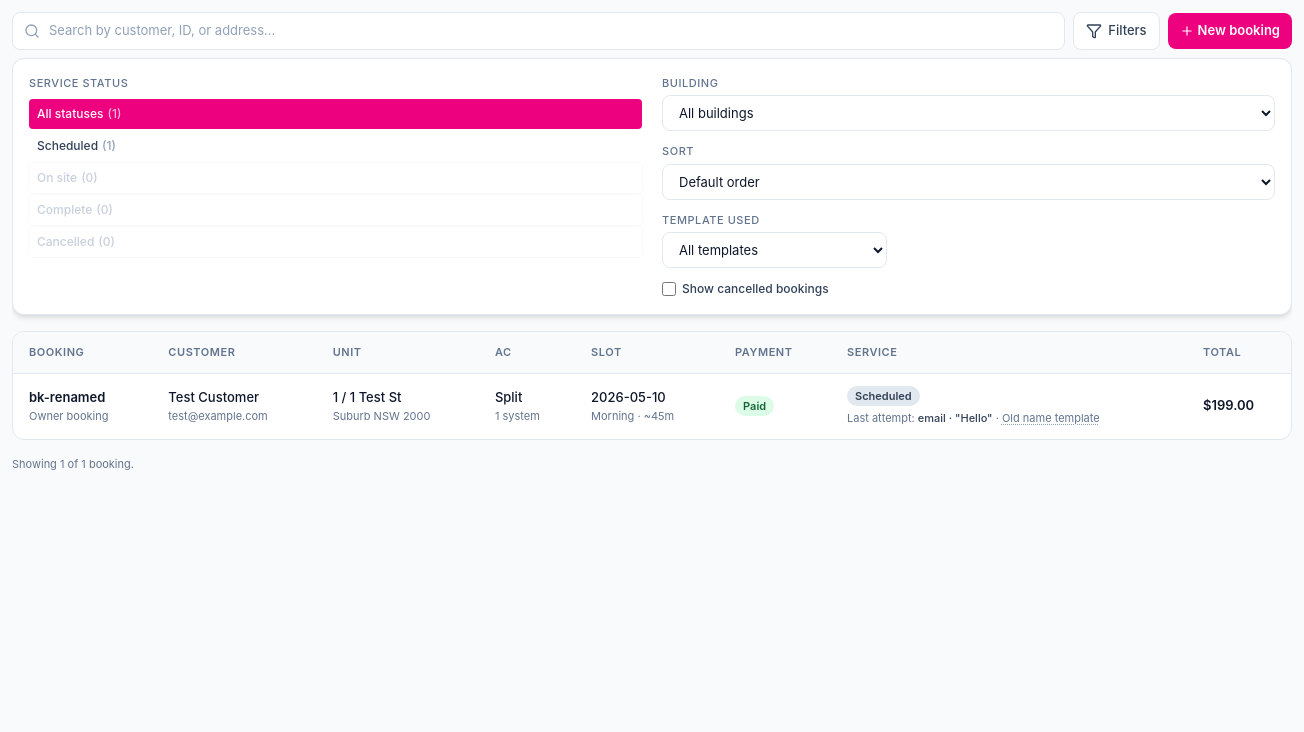
Test: BookingsView — template filter pivot › shows a 'no longer in templates catalog' hint when the chip's template name doesn't match either current catalog (Task #173)
Click the button with test id "bookings-row-last-attempt-template" at (1051, 418), box top-left (1002, 410), bottom-right (1100, 426)
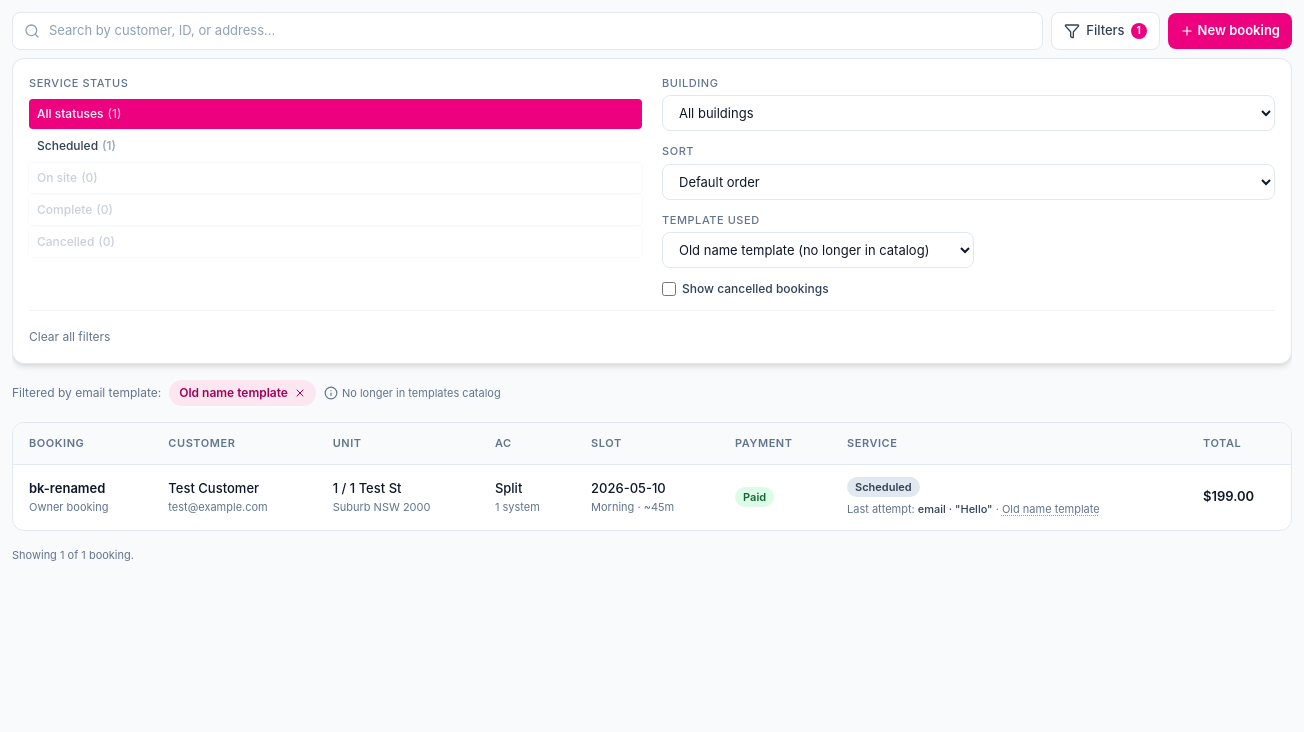
expect the element with test id "bookings-template-filter-chip" is shown: met, box top-left (12, 380), bottom-right (501, 406)
expect the picture with test id "bookings-template-filter-missing-hint" is shown: met, box top-left (324, 385), bottom-right (501, 401)
